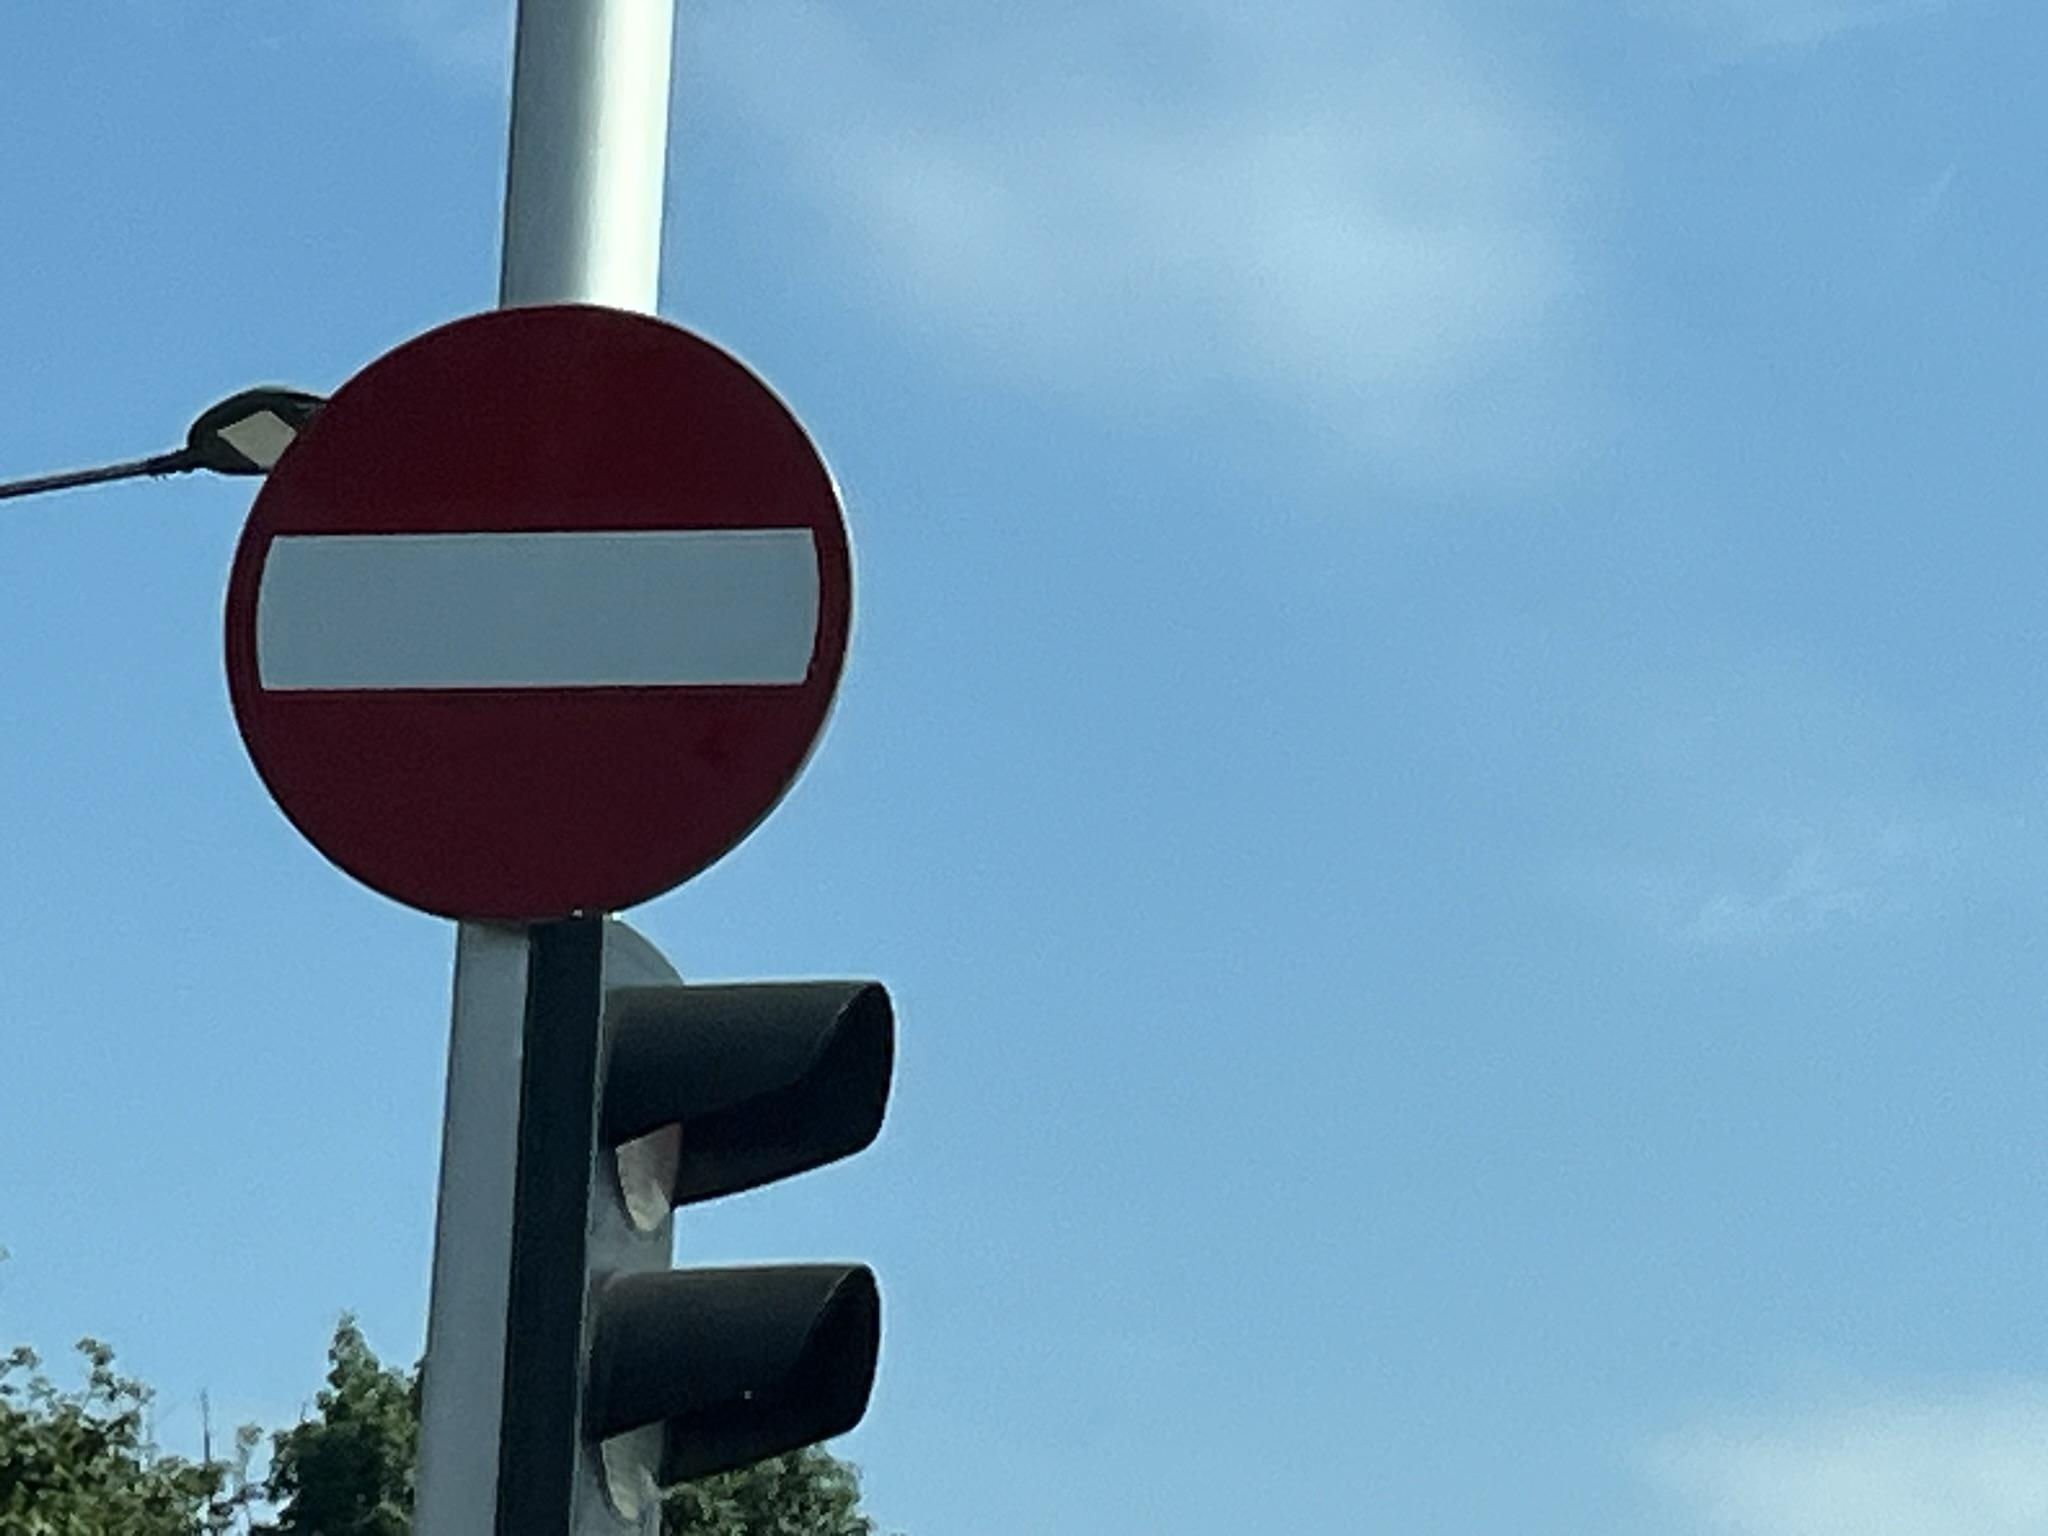prohibitory: (218, 298, 860, 929)
